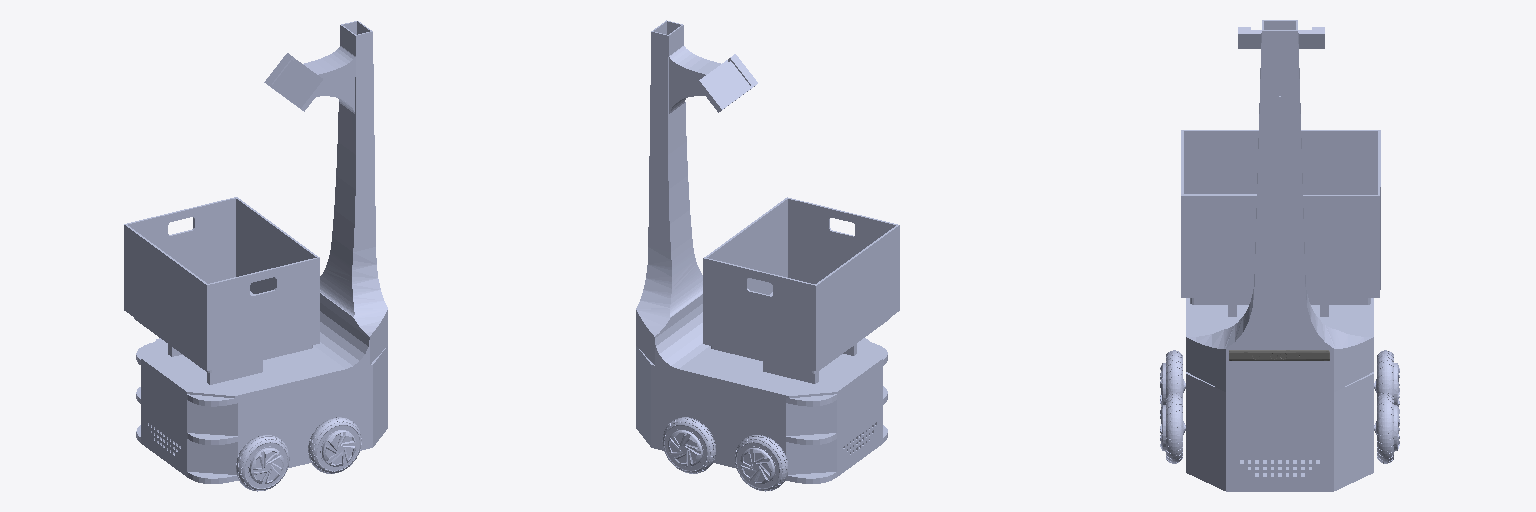
robot.urdf — mybot_description:
<?xml version="1.0" encoding="utf-8"?>
<!-- This URDF was automatically created by SolidWorks to URDF Exporter! Originally created by [author] ([email redacted]) 
     Commit Version: 1.6.0-1-g15f4949  Build Version: 1.6.7594.29634
     For more information, please see http://wiki.ros.org/sw_urdf_exporter -->
<robot
  name="mybot_description">
  <link
    name="base_link">
    <inertial>
      <origin
        xyz="0.128386820110742 0.000686929395924185 0.158512775795314"
        rpy="0 0 0" />
      <mass
        value="34.6383267278588" />
      <inertia
        ixx="1.73796264850436"
        ixy="-0.000148699799662171"
        ixz="-0.260070022561171"
        iyy="2.13507888591353"
        iyz="-1.80220424604975E-06"
        izz="2.01858956817808" />
    </inertial>
    <visual>
      <origin
        xyz="0 0 0"
        rpy="0 0 0" />
      <geometry>
        <mesh
          filename="package://mybot_description/meshes/base_link.STL" />
      </geometry>
      <material
        name="">
        <color
          rgba="0.792156862745098 0.819607843137255 0.933333333333333 1" />
      </material>
    </visual>
    <collision>
      <origin
        xyz="0 0 0"
        rpy="0 0 0" />
      <geometry>
        <mesh
          filename="package://mybot_description/meshes/base_link.STL" />
      </geometry>
    </collision>
  </link>
  <link
    name="right_motor">
    <inertial>
      <origin
        xyz="-4.20679424628645E-09 0.0331497387034929 4.87590441966557E-06"
        rpy="0 0 0" />
      <mass
        value="1.43144480602327" />
      <inertia
        ixx="0.00331965861699229"
        ixy="-1.65643316648922E-10"
        ixz="-2.49861743707994E-10"
        iyy="0.00595557706241426"
        iyz="-3.90156064036137E-07"
        izz="0.00331969353968102" />
    </inertial>
    <visual>
      <origin
        xyz="0 0 0"
        rpy="0 0 0" />
      <geometry>
        <mesh
          filename="package://mybot_description/meshes/right_motor.STL" />
      </geometry>
      <material
        name="">
        <color
          rgba="0.792156862745098 0.819607843137255 0.933333333333333 1" />
      </material>
    </visual>
    <collision>
      <origin
        xyz="0 0 0"
        rpy="0 0 0" />
      <geometry>
        <mesh
          filename="package://mybot_description/meshes/right_motor.STL" />
      </geometry>
    </collision>
  </link>
  <joint
    name="right_motor_joint"
    type="continuous">
    <origin
      xyz="0.21185 -0.327 -0.242"
      rpy="0 0 0" />
    <parent
      link="base_link" />
    <child
      link="right_motor" />
    <axis
      xyz="0 -1 0" />
  </joint>
  <link
    name="left_motor">
    <inertial>
      <origin
        xyz="-4.20679446833105E-09 0.0331497387034928 4.87590441999863E-06"
        rpy="0 0 0" />
      <mass
        value="1.43144480602327" />
      <inertia
        ixx="0.00331965861699228"
        ixy="-1.65643329348428E-10"
        ixz="-2.49861736040813E-10"
        iyy="0.00595557706241427"
        iyz="-3.90156064035793E-07"
        izz="0.00331969353968103" />
    </inertial>
    <visual>
      <origin
        xyz="0 0 0"
        rpy="0 0 0" />
      <geometry>
        <mesh
          filename="package://mybot_description/meshes/left_motor.STL" />
      </geometry>
      <material
        name="">
        <color
          rgba="0.792156862745098 0.819607843137255 0.933333333333333 1" />
      </material>
    </visual>
    <collision>
      <origin
        xyz="0 0 0"
        rpy="0 0 0" />
      <geometry>
        <mesh
          filename="package://mybot_description/meshes/left_motor.STL" />
      </geometry>
    </collision>
  </link>
  <joint
    name="left_motor_joint"
    type="continuous">
    <origin
      xyz="0.21185 0.327 -0.242"
      rpy="0 0 3.1416" />
    <parent
      link="base_link" />
    <child
      link="left_motor" />
    <axis
      xyz="0 1 0" />
  </joint>
  <link
    name="right_wheel">
    <inertial>
      <origin
        xyz="4.2067941907753E-09 0.0331497387034929 -4.87590441988761E-06"
        rpy="0 0 0" />
      <mass
        value="1.43144480602327" />
      <inertia
        ixx="0.00331965861699229"
        ixy="1.65643316113872E-10"
        ixz="-2.49861736302478E-10"
        iyy="0.00595557706241427"
        iyz="3.9015606403935E-07"
        izz="0.00331969353968102" />
    </inertial>
    <visual>
      <origin
        xyz="0 0 0"
        rpy="0 0 0" />
      <geometry>
        <mesh
          filename="package://mybot_description/meshes/right_wheel.STL" />
      </geometry>
      <material
        name="">
        <color
          rgba="0.792156862745098 0.819607843137255 0.933333333333333 1" />
      </material>
    </visual>
    <collision>
      <origin
        xyz="0 0 0"
        rpy="0 0 0" />
      <geometry>
        <mesh
          filename="package://mybot_description/meshes/right_wheel.STL" />
      </geometry>
    </collision>
  </link>
  <joint
    name="right_wheel_joint"
    type="continuous">
    <origin
      xyz="-0.063147 -0.327 -0.242"
      rpy="0 0 0" />
    <parent
      link="base_link" />
    <child
      link="right_wheel" />
    <axis
      xyz="0 -1 0" />
  </joint>
  <link
    name="left_wheel">
    <inertial>
      <origin
        xyz="4.20679427404202E-09 0.0331497387034928 -4.87590441961006E-06"
        rpy="0 0 0" />
      <mass
        value="1.43144480602327" />
      <inertia
        ixx="0.0033196586169923"
        ixy="1.65643308665796E-10"
        ixz="-2.49861736506603E-10"
        iyy="0.00595557706241428"
        iyz="3.90156064036769E-07"
        izz="0.00331969353968103" />
    </inertial>
    <visual>
      <origin
        xyz="0 0 0"
        rpy="0 0 0" />
      <geometry>
        <mesh
          filename="package://mybot_description/meshes/left_wheel.STL" />
      </geometry>
      <material
        name="">
        <color
          rgba="0.792156862745098 0.819607843137255 0.933333333333333 1" />
      </material>
    </visual>
    <collision>
      <origin
        xyz="0 0 0"
        rpy="0 0 0" />
      <geometry>
        <mesh
          filename="package://mybot_description/meshes/left_wheel.STL" />
      </geometry>
    </collision>
  </link>
  <joint
    name="left_wheel_joint"
    type="continuous">
    <origin
      xyz="-0.063147 0.327 -0.242"
      rpy="0 0 3.1416" />
    <parent
      link="base_link" />
    <child
      link="left_wheel" />
    <axis
      xyz="0 1 0" />
  </joint>
  <link
    name="camera_link">
    <inertial>
      <origin
        xyz="-0.0277735063558892 0.0143658806531268 5.94217075544634E-09"
        rpy="0 0 0" />
      <mass
        value="0.554061895865926" />
      <inertia
        ixx="0.00292760923931499"
        ixy="-9.3576574546003E-07"
        ixz="-9.73024378416661E-11"
        iyy="0.00022646595658487"
        iyz="-4.83501853093787E-10"
        izz="0.00302698572685721" />
    </inertial>
    <visual>
      <origin
        xyz="0 0 0"
        rpy="0 0 0" />
      <geometry>
        <mesh
          filename="package://mybot_description/meshes/camera_link.STL" />
      </geometry>
      <material
        name="">
        <color
          rgba="0.494117647058824 0.494117647058824 0.494117647058824 1" />
      </material>
    </visual>
    <collision>
      <origin
        xyz="0 0 0"
        rpy="0 0 0" />
      <geometry>
        <mesh
          filename="package://mybot_description/meshes/camera_link.STL" />
      </geometry>
    </collision>
  </link>
  <joint
    name="kinect_joint"
    type="fixed">
    <origin
      xyz="0.49448 -0.016314 0.10959"
      rpy="0 0 0" />
    <parent
      link="base_link" />
    <child
      link="camera_link" />
    <axis
      xyz="0 0 0" />
  </joint>

<!--Kinect  Link /-->


  <!--  Kinect Optical Link and joints   /-->
<joint name="kinect_optical_joint" type="fixed">

<origin xyz="0 0 0" rpy="-1.5707 0 -1.5707"/> <!-- To invert the coordinates from image convention (Z is forward) to normal xyz /-->
<parent link="camera_link"/>
<child link="kinect_optical"/>
</joint>

<!--Virtual link to project the images to, and then flip it to us as its joint is flipped  /-->
<link name="kinect_optical">
</link>
</robot>

--- Facts derived from the render (not from the file) ---
The picture shows the robot from 3 angles, left to right: view 1: azimuth 30°, elevation 25°; view 2: azimuth 150°, elevation 25°; view 3: azimuth 270°, elevation 25°; orthographic projection.
Model mybot_description with 7 links and 6 joints (4 continuous, 2 fixed), rooted at base_link, posed all joints at 0.
Links seen in each view (by area): view 1: base_link, right_motor, right_wheel; view 2: base_link, left_motor, left_wheel; view 3: base_link, right_motor, left_motor, camera_link, right_wheel, left_wheel.
Boxes of the visible links, bbox=[...] form: base_link: bbox=[124, 21, 387, 483]; right_motor: bbox=[308, 417, 361, 473]; right_wheel: bbox=[236, 435, 289, 491]; base_link: bbox=[636, 20, 899, 483]; left_motor: bbox=[662, 417, 715, 473]; left_wheel: bbox=[735, 435, 787, 491]; base_link: bbox=[1181, 20, 1380, 491]; right_motor: bbox=[1160, 393, 1185, 463]; left_motor: bbox=[1374, 393, 1399, 463]; camera_link: bbox=[1229, 350, 1329, 360]; right_wheel: bbox=[1160, 350, 1185, 406]; left_wheel: bbox=[1374, 350, 1399, 406].
Bounding box of the posed robot: 0.7663 × 0.66 × 1.44 m (x, y, z).
Meshes: 6 distinct files referenced, 6 mesh visuals loaded (6 binary STL).
